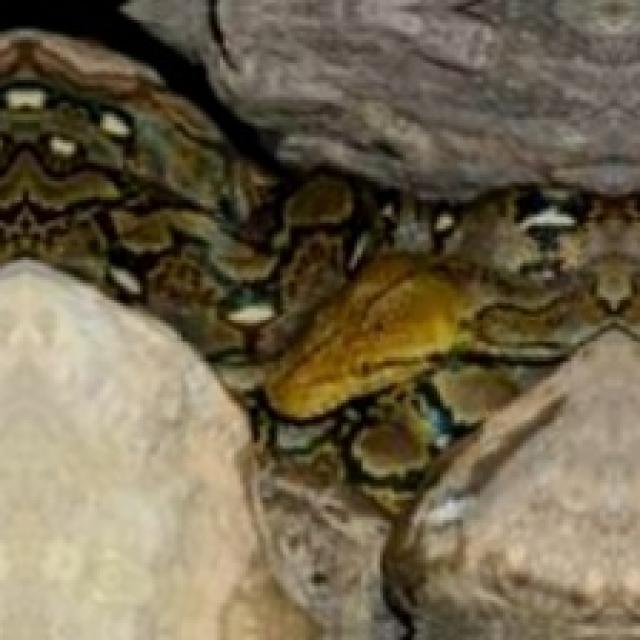reticulated python: (0, 31, 637, 637)
